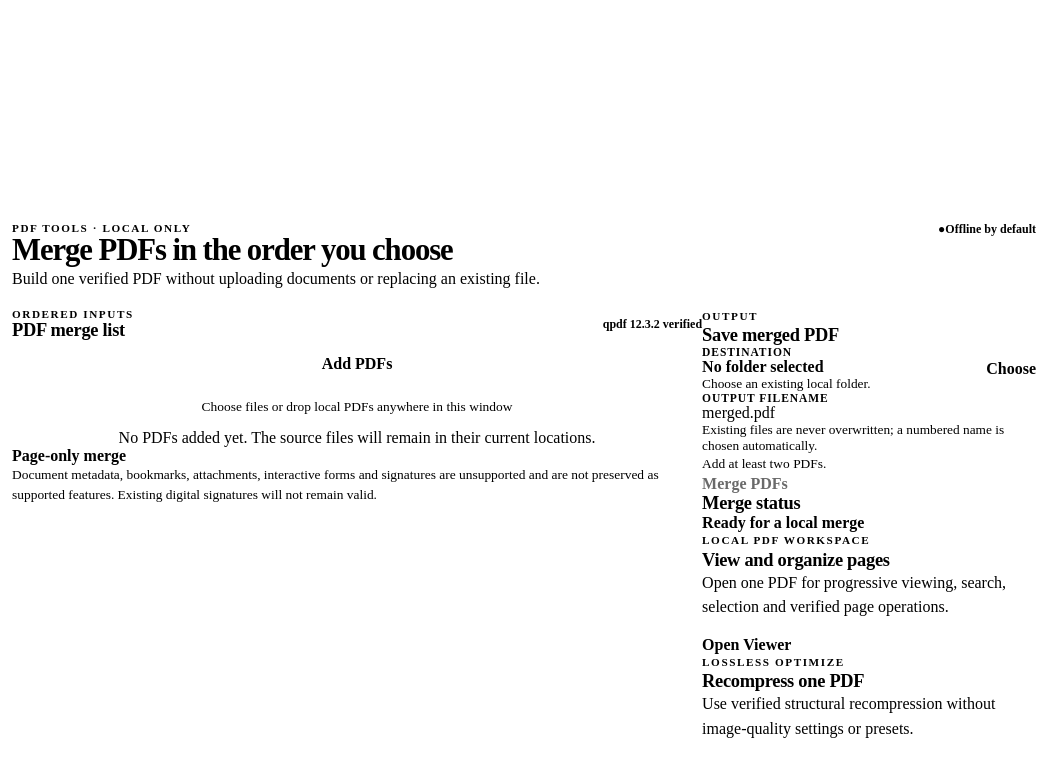
Test: G02 PDF Merge screen › renders a successful no-benefit outcome without output actions or failure styling
This screenshot has width=1048, height=757.
(page scrolled)
Click the button "Add PDFs" at point(357, 363), box top-left (12, 341), bottom-right (702, 429)
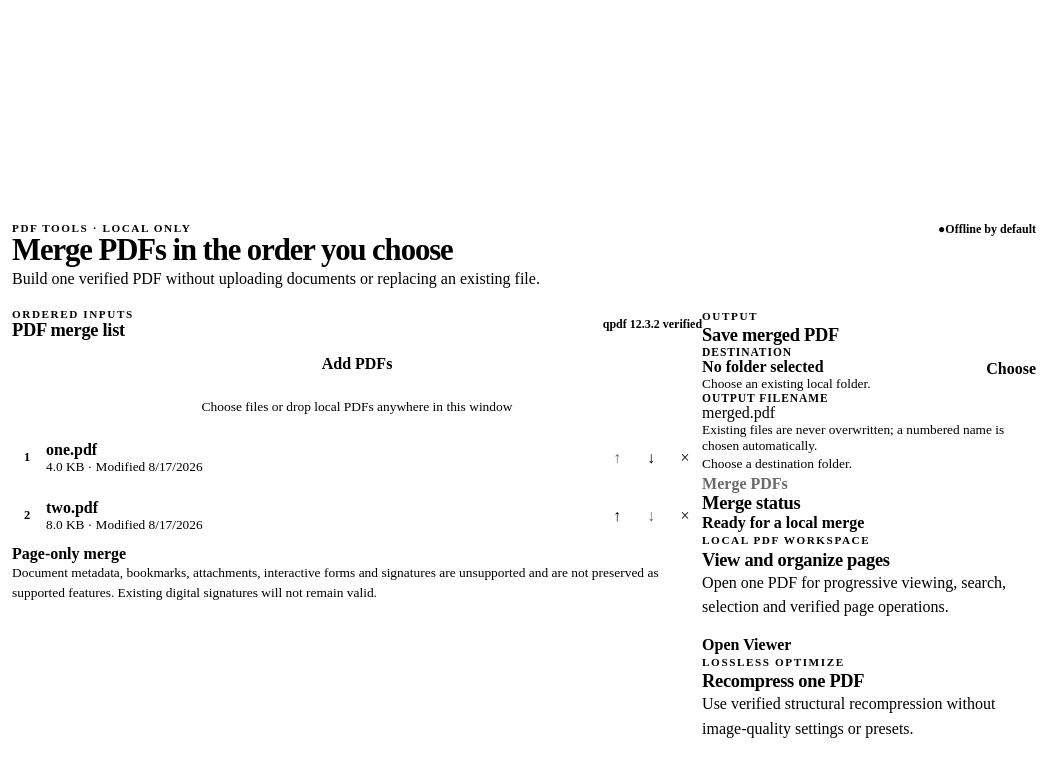
Click the button "Choose" at point(1011, 369), box top-left (986, 360), bottom-right (1036, 378)
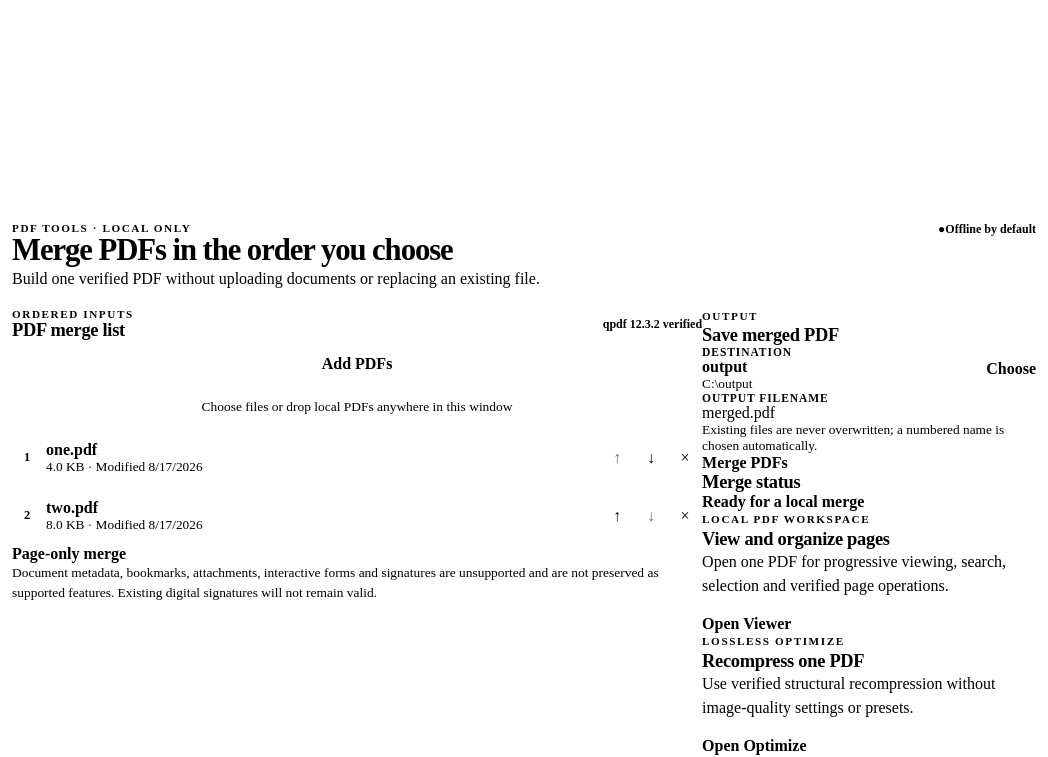
Click the button "Merge PDFs" at point(745, 463), box top-left (702, 454), bottom-right (788, 472)
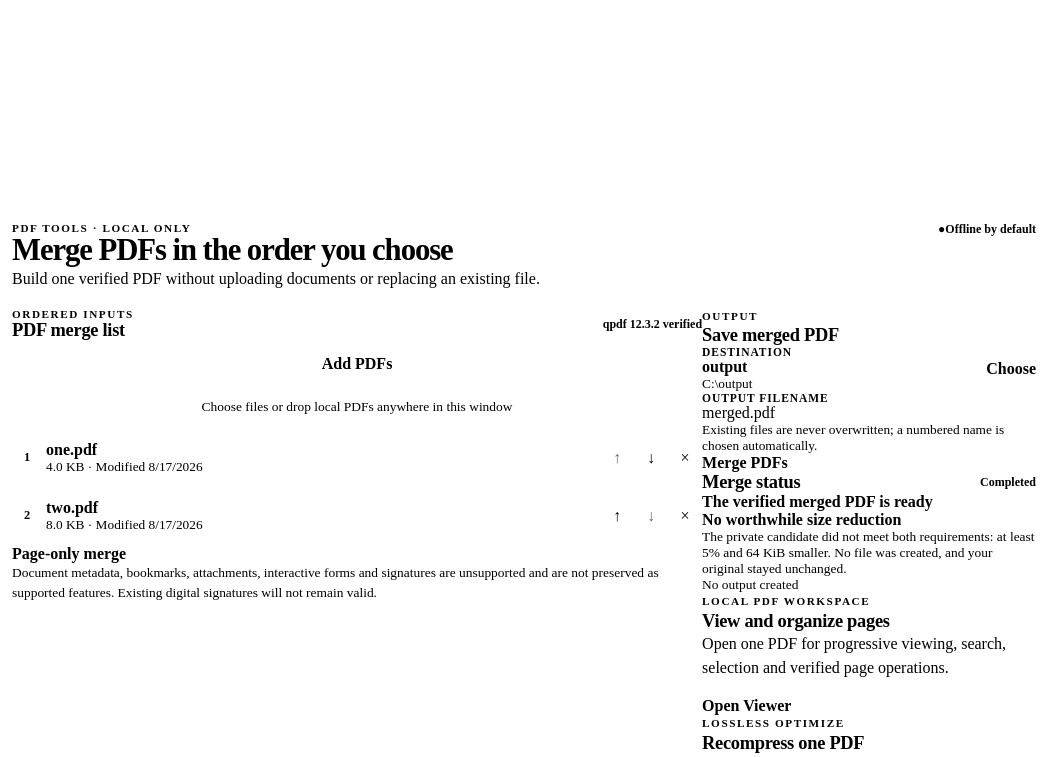
Expected: the text "No worthwhile size reduction" is shown, top-left (702, 511), bottom-right (901, 528)
Expected: the text "The private candidate did not meet both requirements: at least 5% and 64 KiB smaller. No file was created, and your orig" is shown, top-left (702, 529), bottom-right (1035, 576)
